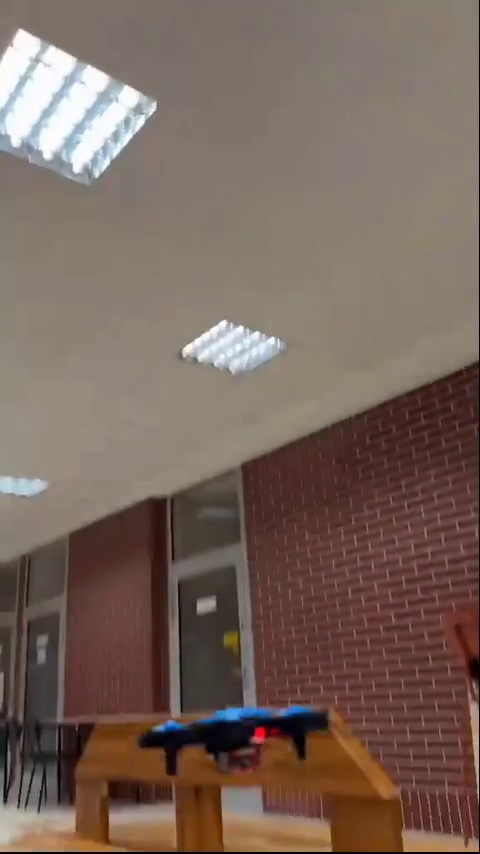drone: (146, 702, 325, 773)
